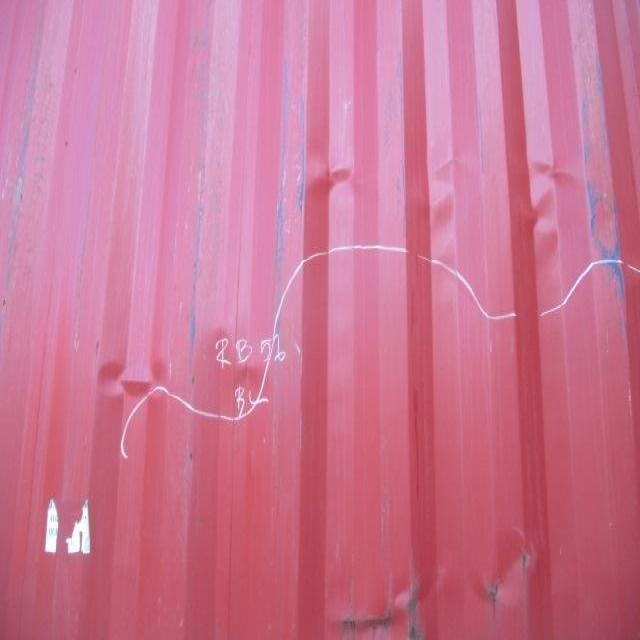dent: (309, 141, 594, 252), (319, 526, 557, 640), (95, 330, 274, 417)
